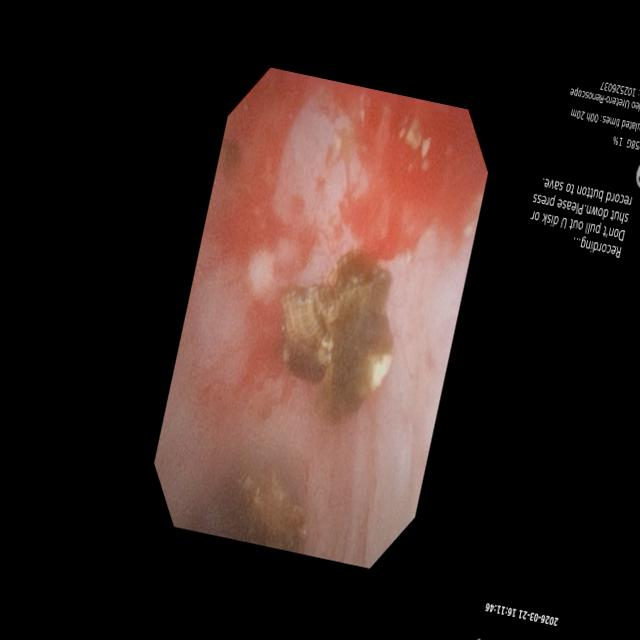stone-new: (281, 252, 393, 423), (239, 469, 307, 551), (406, 119, 421, 150)
